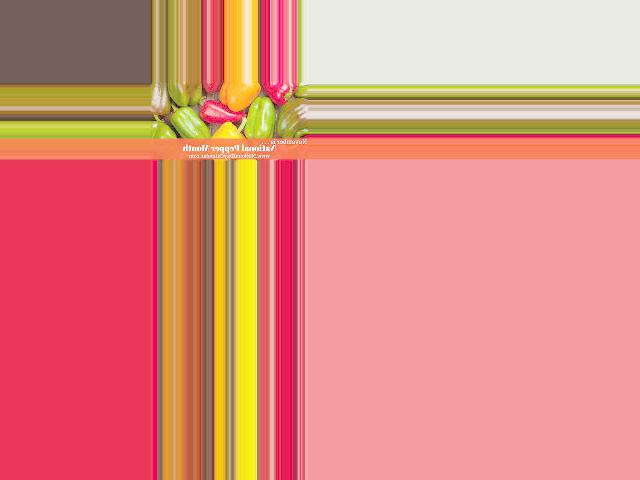bell_pepper: (276, 98, 307, 138)
